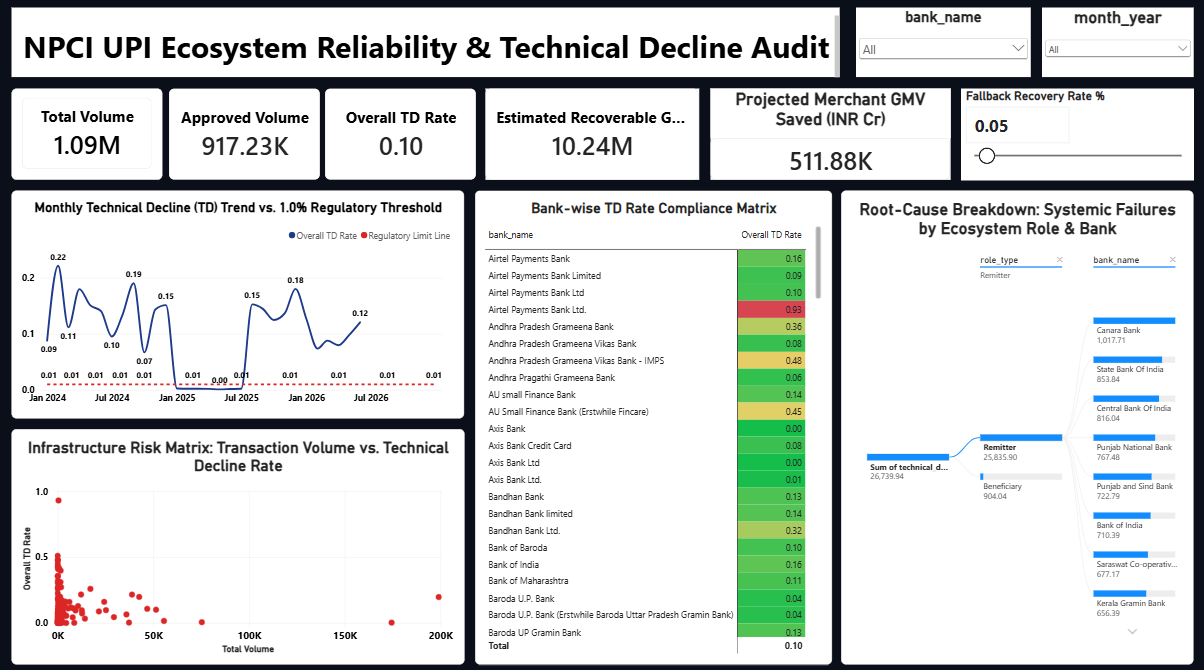

The dashboard page shown, as its layout file describes it:
{"tool":"powerbi","page":{"name":"master_dashboard","canvas":[1920,1080],"ordinal":0},"visuals":[{"type":"lineChart","title":"Monthly Technical Decline (TD) Trend vs. 1.0% Regulatory Threshold ","fields":{"Y":["npci_upi_clean_data.Overall TD Rate","npci_upi_clean_data.Regulatory Limit Line"],"Category":["npci_upi_clean_data.month_year.Variation.Date Hierarchy.Year","npci_upi_clean_data.month_year.Variation.Date Hierarchy.Quarter","npci_upi_clean_data.month_year.Variation.Date Hierarchy.Month","npci_upi_clean_data.month_year.Variation.Date Hierarchy.Day"]},"box":[21.5,307.8,720,362.7],"z":0},{"type":"pivotTable","title":"Bank-wise TD Rate Compliance Matrix","fields":{"Rows":["npci_upi_clean_data.bank_name"],"Values":["npci_upi_clean_data.Overall TD Rate"]},"box":[758.7,307.8,567.8,753.9],"z":1000},{"type":"textbox","box":[22.2,17.2,1317.5,110.8],"z":2000},{"type":"cardVisual","fields":{"Data":["npci_upi_clean_data.Total Volume (Mn)"]},"box":[21.5,145.5,240,145.5],"z":3000},{"type":"cardVisual","fields":{"Data":["npci_upi_clean_data.Approved Volume (Mn)"]},"box":[271,145.5,240,145.5],"z":4000},{"type":"cardVisual","fields":{"Data":["npci_upi_clean_data.Overall TD Rate"]},"box":[521,145.5,240,145.5],"z":5000},{"type":"cardVisual","fields":{"Data":["npci_upi_clean_data.Estimated Recoverable GMV (INR Cr)"]},"box":[775,145.3,339.8,145.3],"z":6000},{"type":"scatterChart","title":"Infrastructure Risk Matrix: Transaction Volume vs. Technical Decline Rate","fields":{"X":["npci_upi_clean_data.Total Volume (Mn)"],"Category":["npci_upi_clean_data.bank_name"],"Y":["npci_upi_clean_data.Overall TD Rate"]},"box":[21.5,687.1,720.5,374.6],"z":7000},{"type":"decompositionTreeVisual","title":"Root-Cause Breakdown: Systemic Failures by Ecosystem Role & Bank","fields":{"ExplainBy":["npci_upi_clean_data.role_type","npci_upi_clean_data.bank_name"],"Analyze":["Sum(npci_upi_clean_data.technical_decline_pct)"]},"box":[1340.9,307.8,560.7,753.9],"z":8000},{"type":"slicer","fields":{"Values":["Fallback Recovery Rate %.Fallback Recovery Rate %"]},"box":[1531.8,145.3,369.4,145.3],"z":9000},{"type":"cardVisual","title":"Projected Merchant GMV Saved (INR Cr)","fields":{"Data":["npci_upi_clean_data.Dynamic Recovered Savings (INR Cr)"]},"box":[1132.8,145.3,381.7,145.3],"z":10000},{"type":"slicer","title":"bank_name","fields":{"Values":["npci_upi_clean_data.bank_name"]},"box":[1364.3,17.2,278.3,110.8],"z":11000},{"type":"slicer","title":"month_year","fields":{"Values":["npci_upi_clean_data.month_year"]},"box":[1659.8,17.2,241.3,110.8],"z":12000}]}

Visuals, with their boxes in screenshot pixels (x1, y1, x2, y2), scaled from the page's 1920x1080 canvas onto the 1204x670 screenshot:
"Monthly Technical Decline (TD) Trend vs. 1.0% Regulatory Threshold " lineChart: crop(13, 191, 465, 416)
"Bank-wise TD Rate Compliance Matrix" pivotTable: crop(476, 191, 832, 659)
textbox: crop(14, 11, 840, 79)
cardVisual - npci_upi_clean_data.Total Volume (Mn): crop(13, 90, 164, 181)
cardVisual - npci_upi_clean_data.Approved Volume (Mn): crop(170, 90, 320, 181)
cardVisual - npci_upi_clean_data.Overall TD Rate: crop(327, 90, 477, 181)
cardVisual - npci_upi_clean_data.Estimated Recoverable GMV (INR Cr): crop(486, 90, 699, 180)
"Infrastructure Risk Matrix: Transaction Volume vs. Technical Decline Rate" scatterChart: crop(13, 426, 465, 659)
"Root-Cause Breakdown: Systemic Failures by Ecosystem Role & Bank" decompositionTreeVisual: crop(841, 191, 1192, 659)
slicer - Fallback Recovery Rate %.Fallback Recovery Rate %: crop(961, 90, 1192, 180)
"Projected Merchant GMV Saved (INR Cr)" cardVisual: crop(710, 90, 950, 180)
"bank_name" slicer: crop(856, 11, 1030, 79)
"month_year" slicer: crop(1041, 11, 1192, 79)
